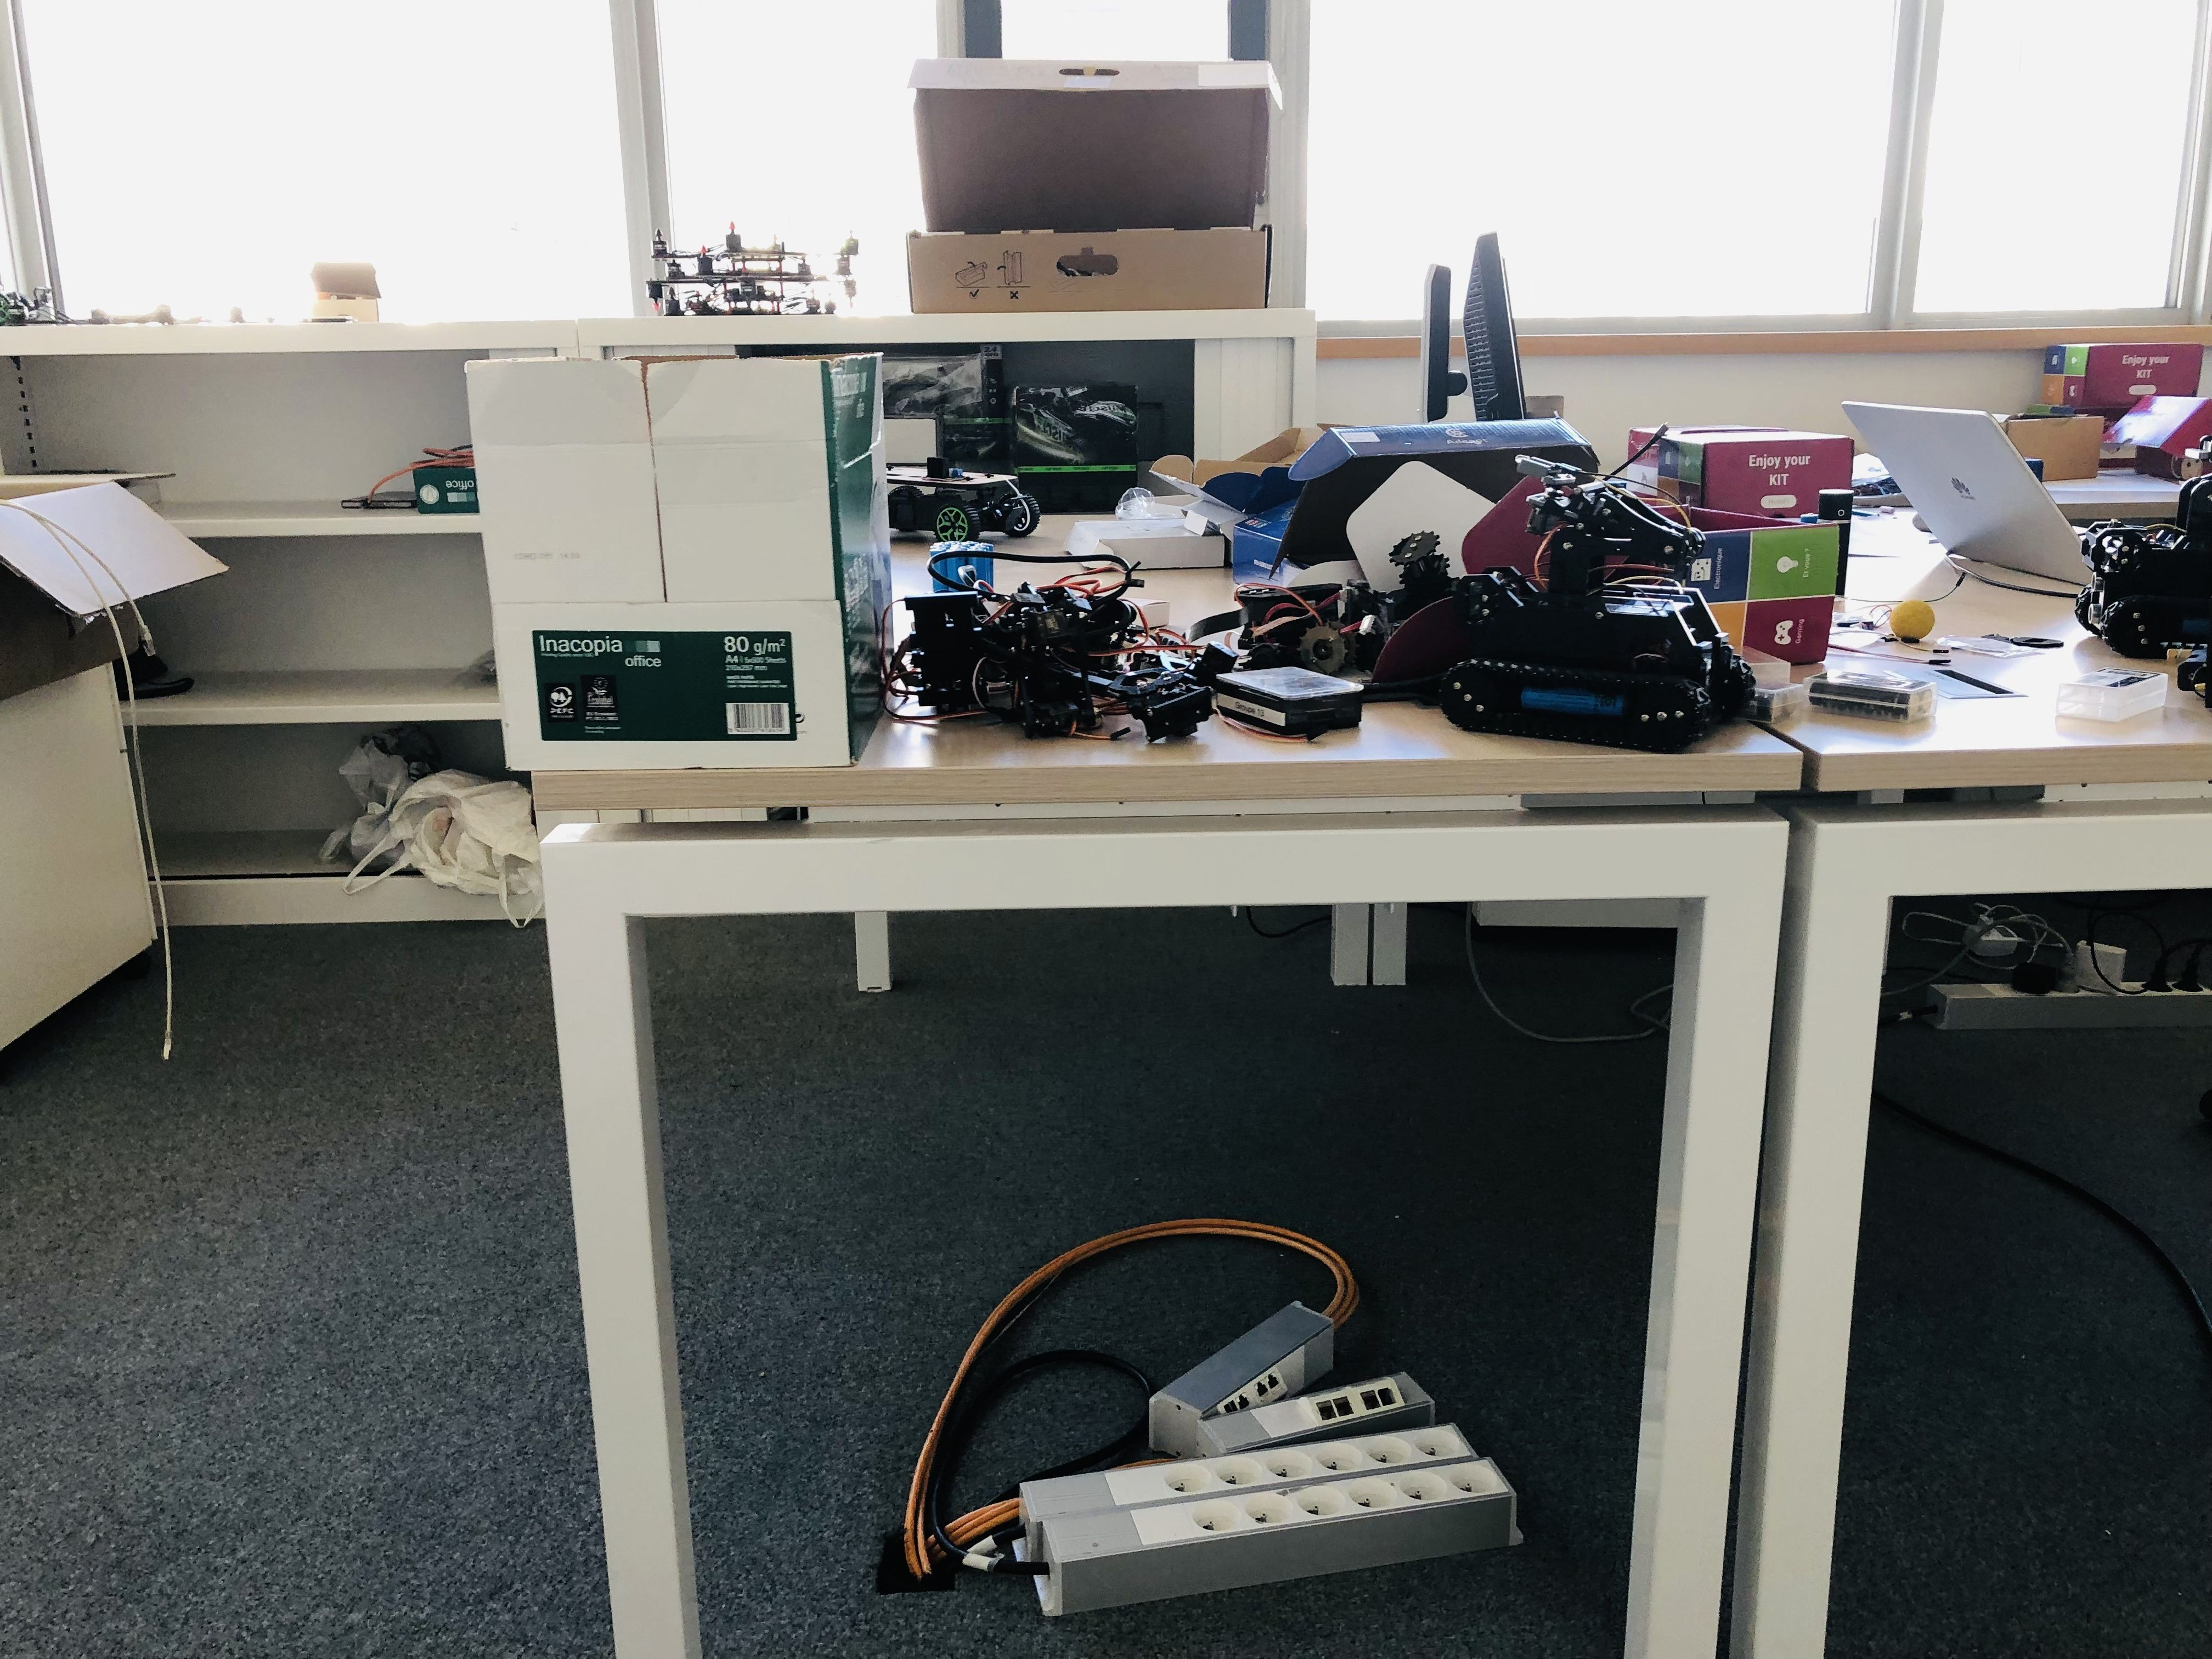rasptank: (1440, 453, 1764, 756)
